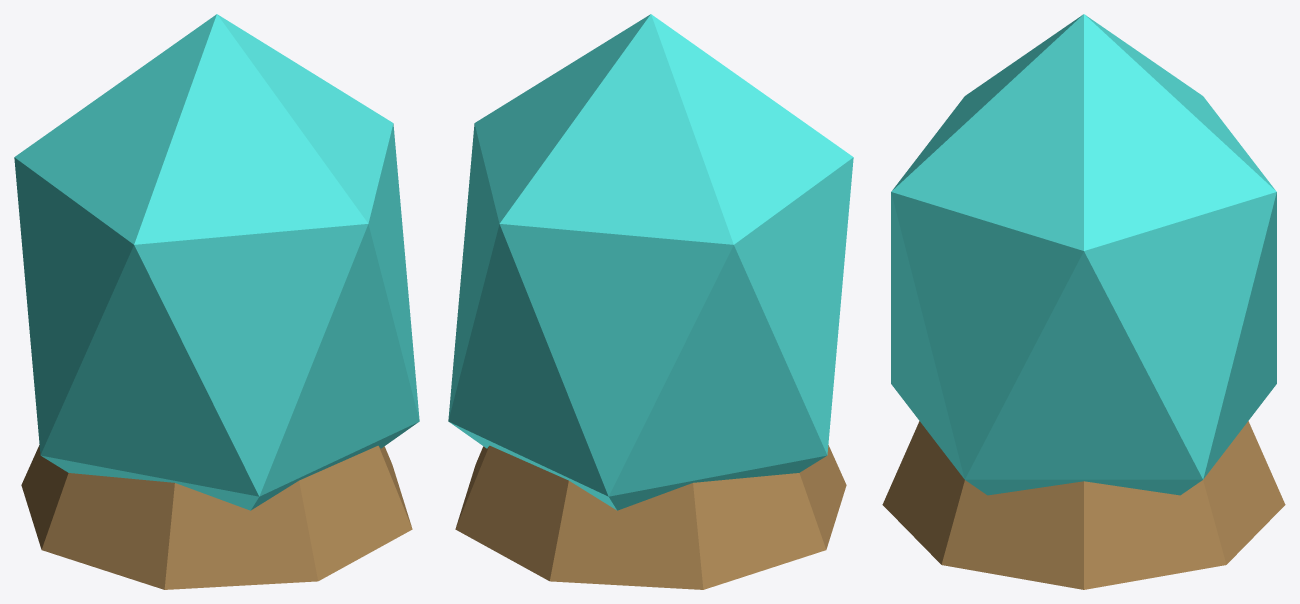
The model's file is L01R_XPGem.fbx.
The picture shows the model from 3 angles, left to right: view 1: azimuth 30°, elevation 25°; view 2: azimuth 150°, elevation 25°; view 3: azimuth 270°, elevation 25°; orthographic projection.
Parts seen in each view (by area): view 1: L01R_XPGem; view 2: L01R_XPGem; view 3: L01R_XPGem.
Boxes of the visible parts, x1=… form: L01R_XPGem: x1=14, y1=14, x2=419, y2=589; L01R_XPGem: x1=448, y1=14, x2=853, y2=589; L01R_XPGem: x1=882, y1=14, x2=1285, y2=589.
Size of the model in its own units: 32.2 by 48 by 32.
